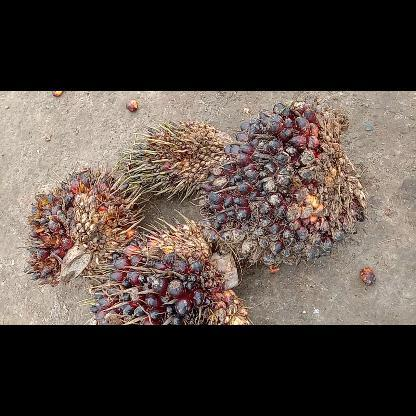Kurang masak: (200, 96, 364, 268), (90, 224, 248, 324)
TBS abnormal: (124, 122, 234, 202)
TBS masak: (27, 167, 134, 282)
